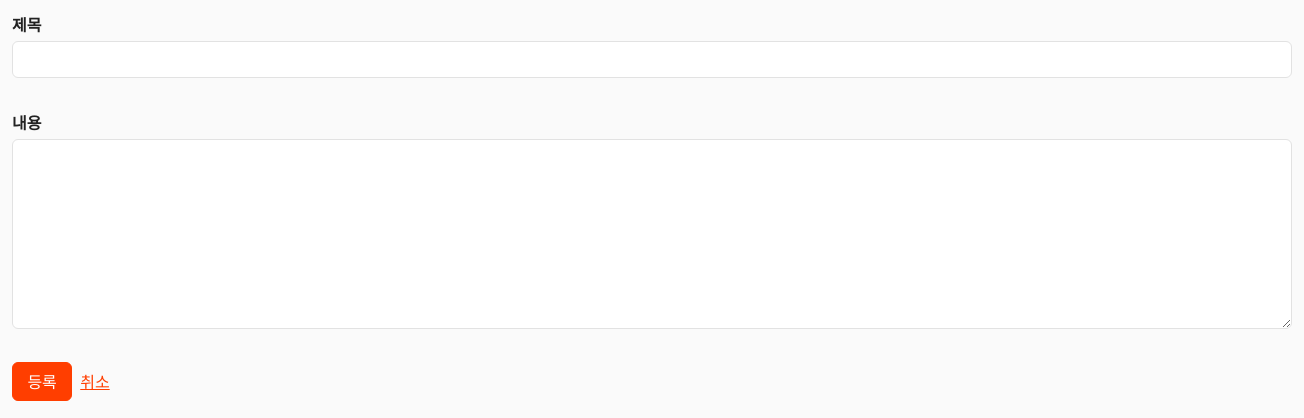
Test: PostForm › onsubmit이 던진 오류를 폼 아래에 보여 주고, 입력은 유지한다
Type "제목입니다" into the field labelled "제목". click: (652, 59)
box: [12, 41, 1292, 78]
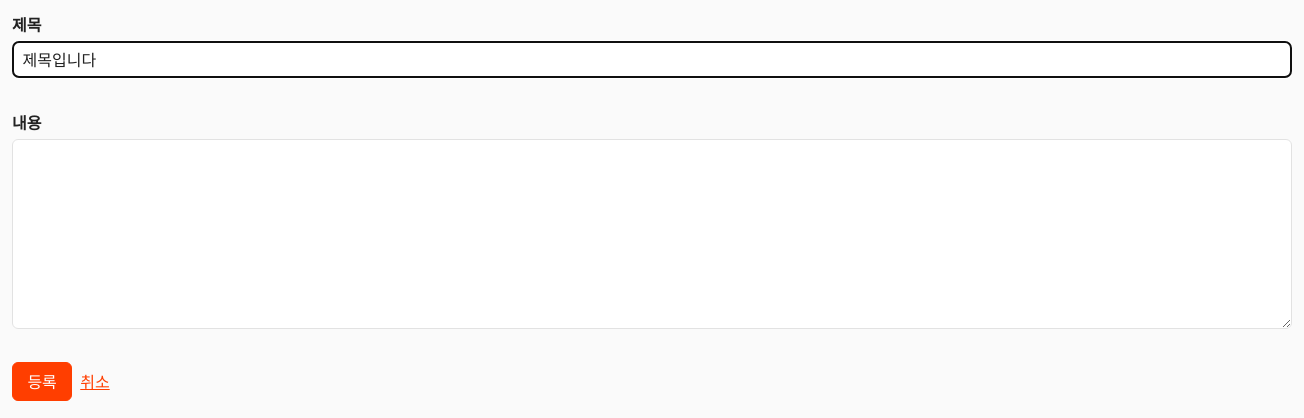
Type "내용이 충분히 깁니다" into the text box labelled "내용". click: (652, 234)
box: [12, 139, 1292, 330]
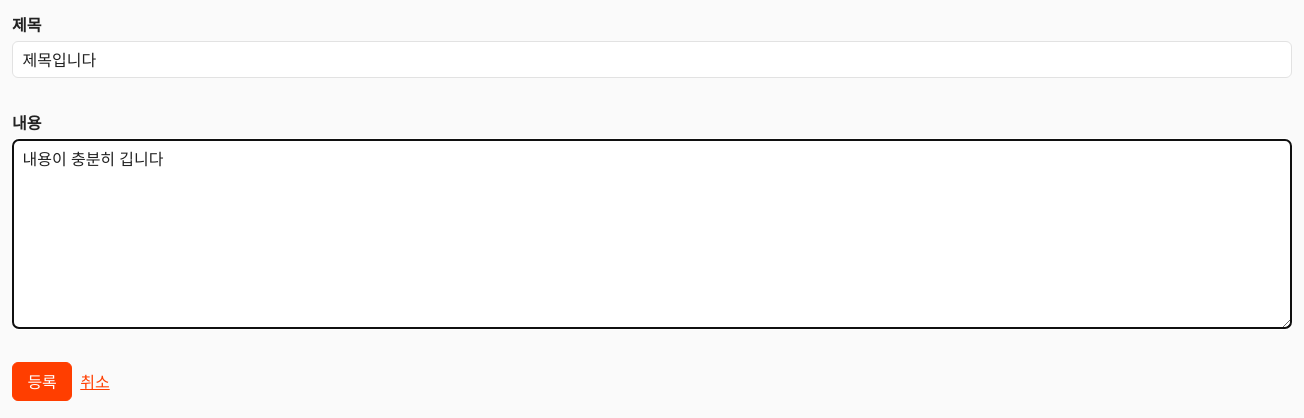
Click the button "등록". click: (42, 381)
box: [12, 362, 72, 400]
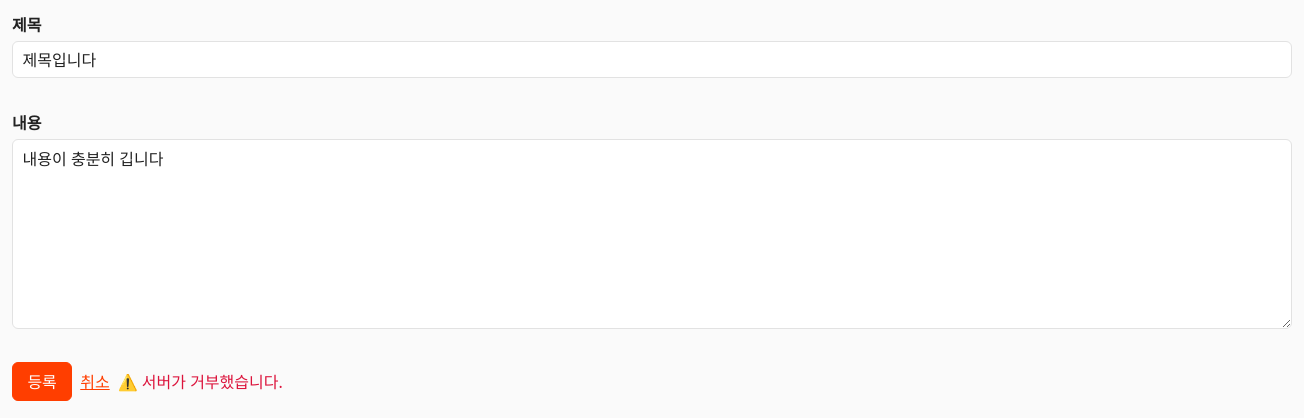
Result: the message shows "서버가 거부했습니다." at [118, 371, 283, 393]
